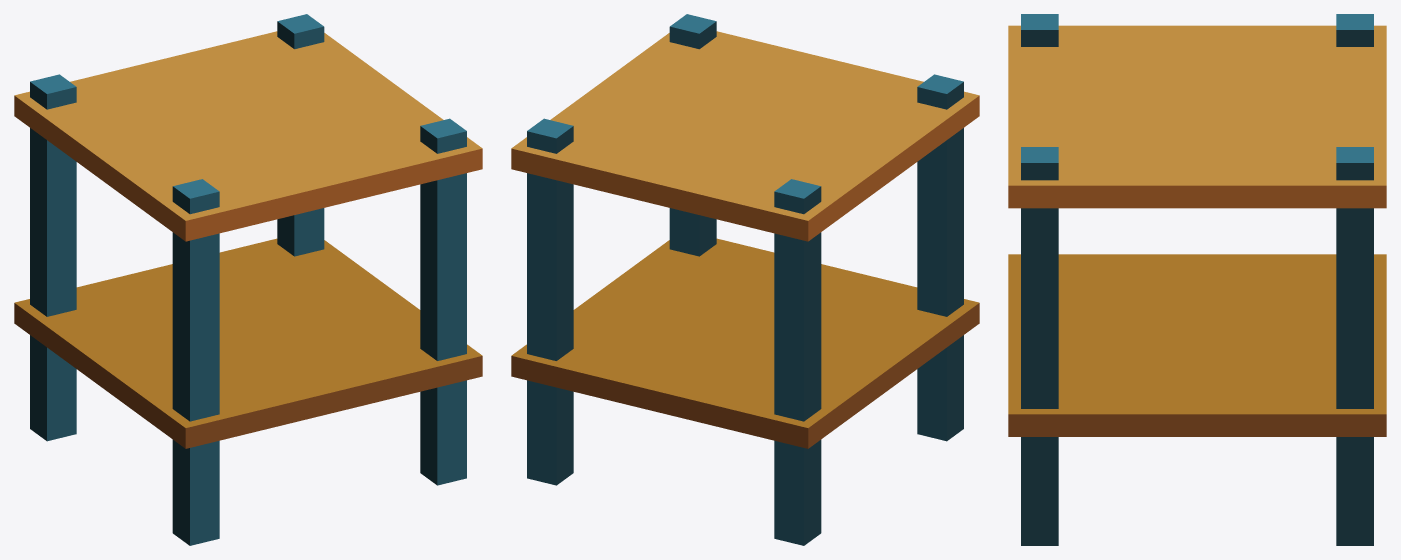
The model's file is Shelf.fbx.
The picture shows the model from 3 angles, left to right: view 1: azimuth 30°, elevation 25°; view 2: azimuth 150°, elevation 25°; view 3: azimuth 270°, elevation 25°; orthographic projection. The views are drawn at different scales.
Parts seen in each view (by area): view 1: Shelf; view 2: Shelf; view 3: Shelf.
Boxes of the visible parts, left/top/right/bottom form: Shelf: left=14, top=14, right=482, bottom=545; Shelf: left=511, top=14, right=979, bottom=545; Shelf: left=1008, top=14, right=1386, bottom=545.
Size of the model in its own units: 95.96 by 107 by 96.
